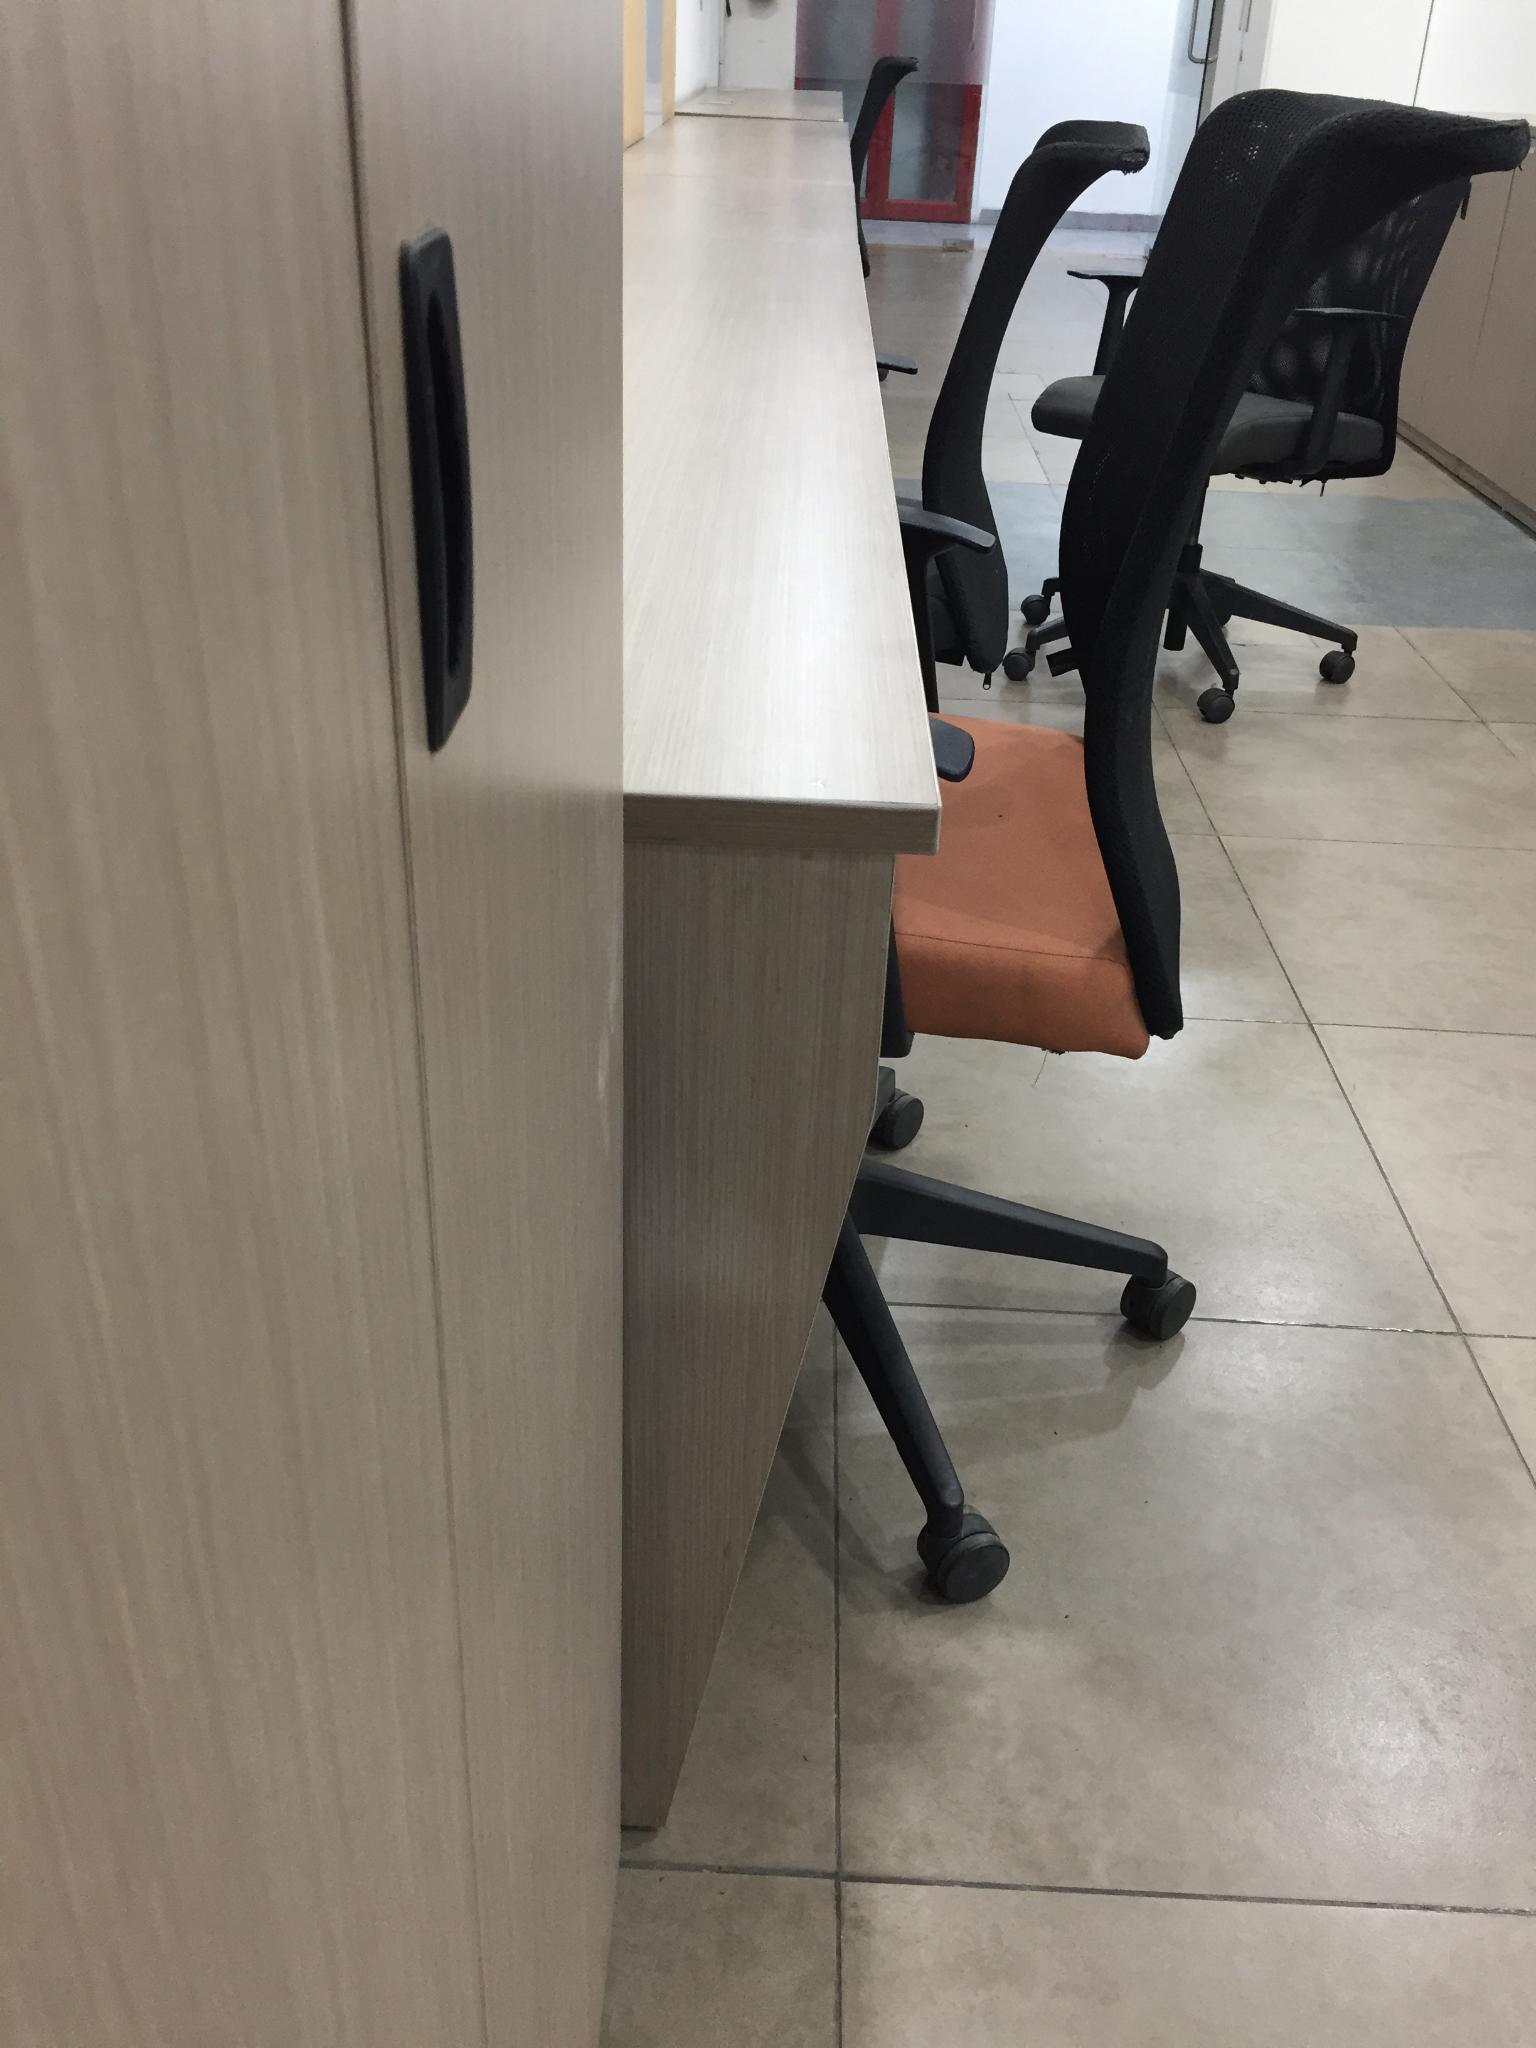chair: (649, 110, 1525, 1596), (1031, 76, 1507, 735), (729, 82, 1155, 742), (789, 52, 936, 287)
